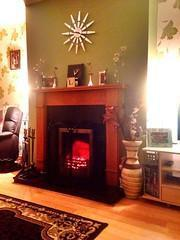fire: (55, 134, 94, 172)
